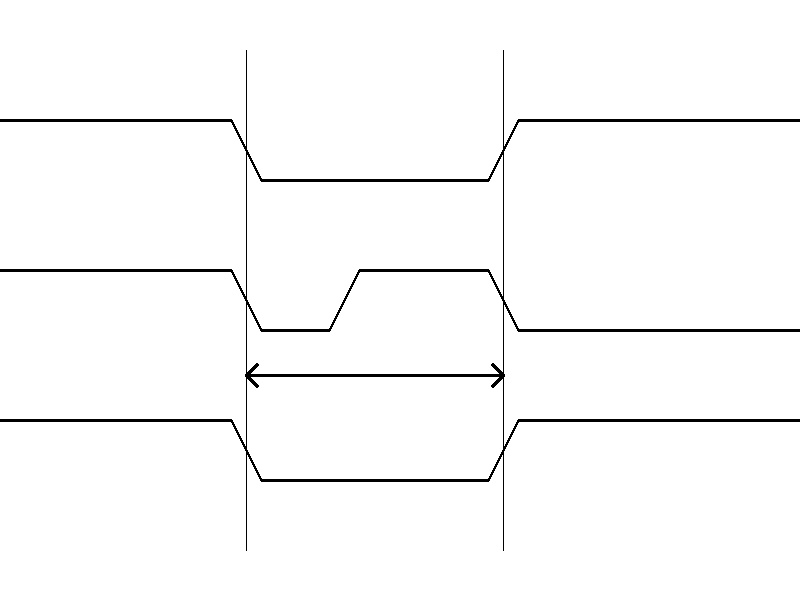double_arrow: (246, 360, 503, 390)
